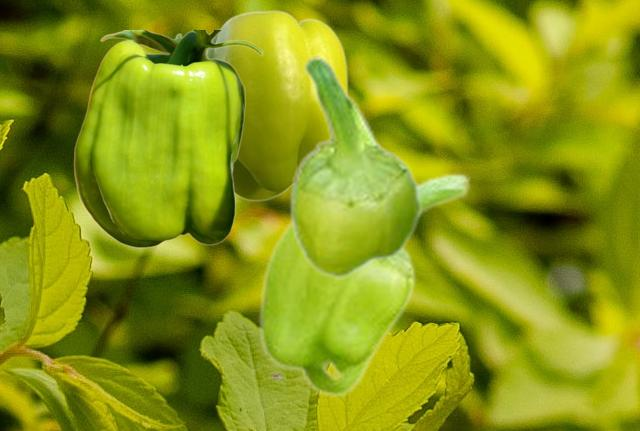bell_pepper: (257, 171, 471, 397), (73, 30, 262, 247), (288, 56, 422, 278), (208, 9, 347, 200)
